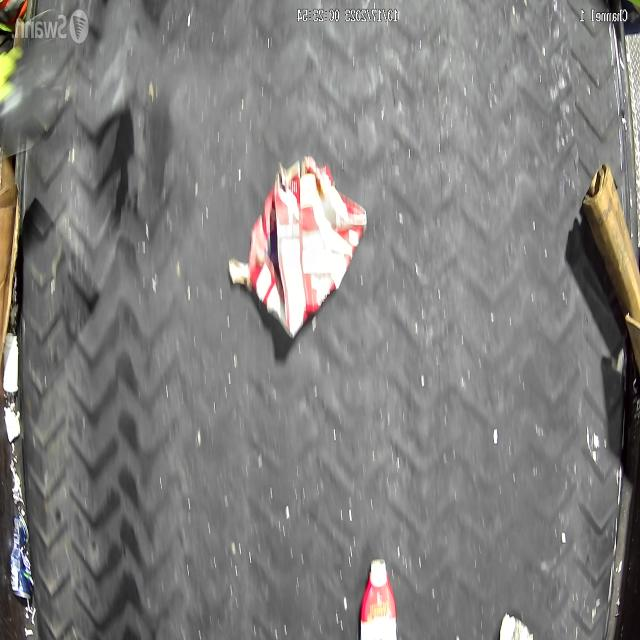can: (10, 514, 34, 602)
